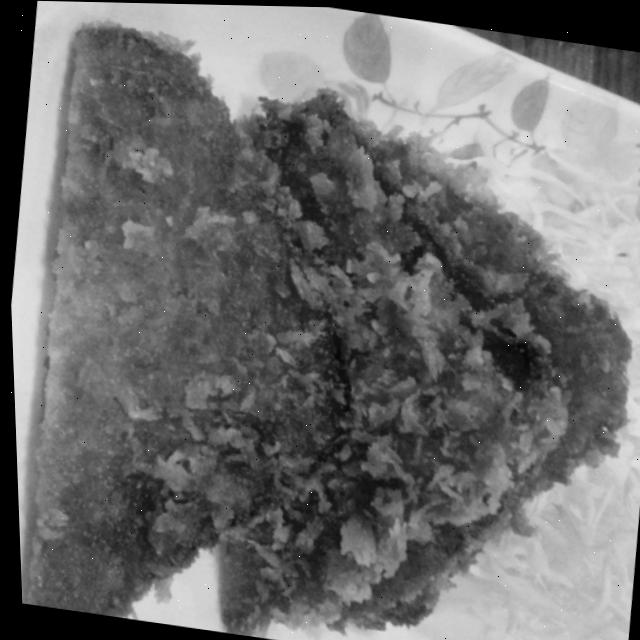炸货点心: (0, 8, 640, 640)
